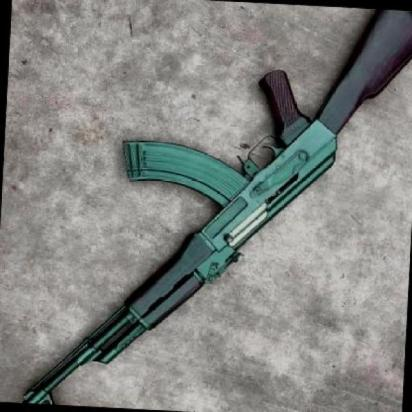Gun: (22, 0, 412, 412)
